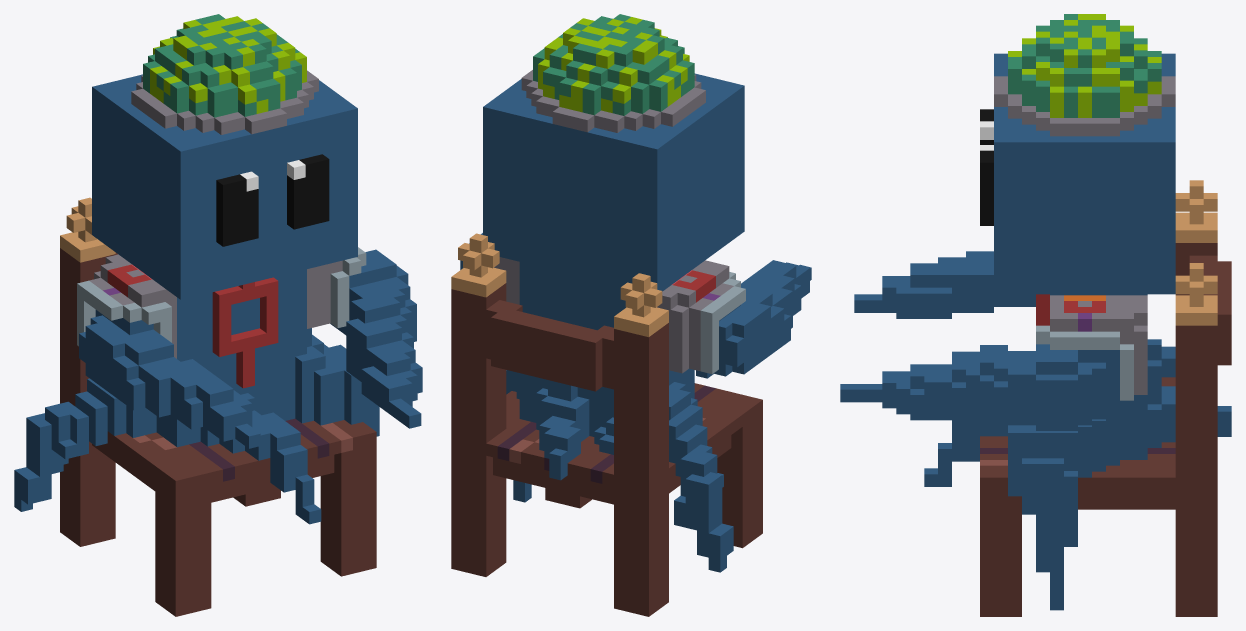
File: AlienOnChair.dae
3 views of the same model, side by side, from view 1: azimuth 30°, elevation 25°; view 2: azimuth 150°, elevation 25°; view 3: azimuth 270°, elevation 25° (orthographic). The views are drawn at different scales.
Parts seen in each view (by area): view 1: AlienOnChair; view 2: AlienOnChair; view 3: AlienOnChair.
Part boxes in pixels (bbox=[...]): AlienOnChair: bbox=[14, 14, 422, 616]; AlienOnChair: bbox=[451, 14, 811, 616]; AlienOnChair: bbox=[840, 14, 1231, 616].
Bounding box in the file's own units: 27 × 28 × 42.
Materials: 1 (1 with a texture image).
